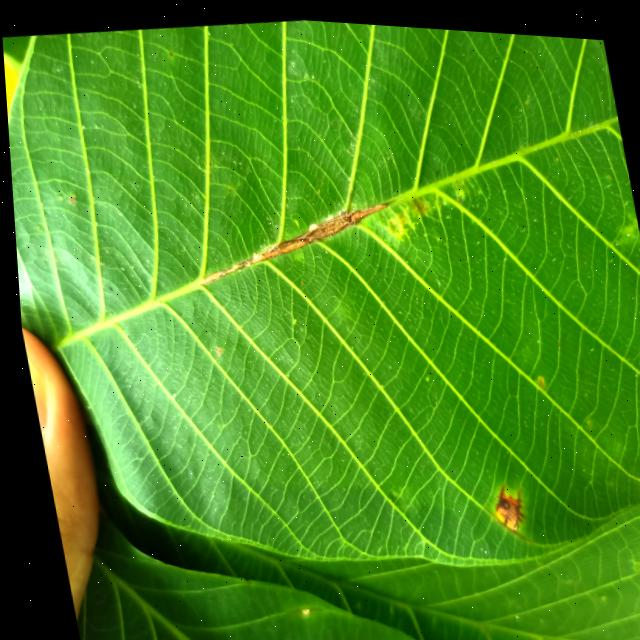Corynespora: (477, 476, 522, 531)
